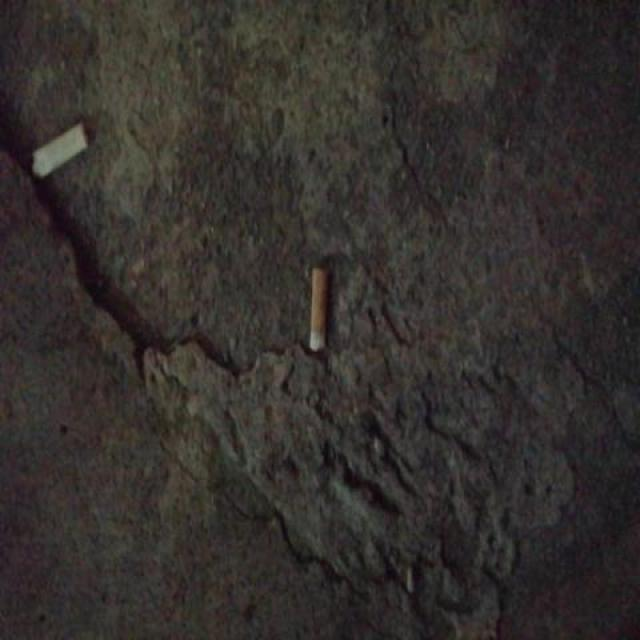non-organic waste: (28, 116, 92, 184), (307, 264, 332, 356)
